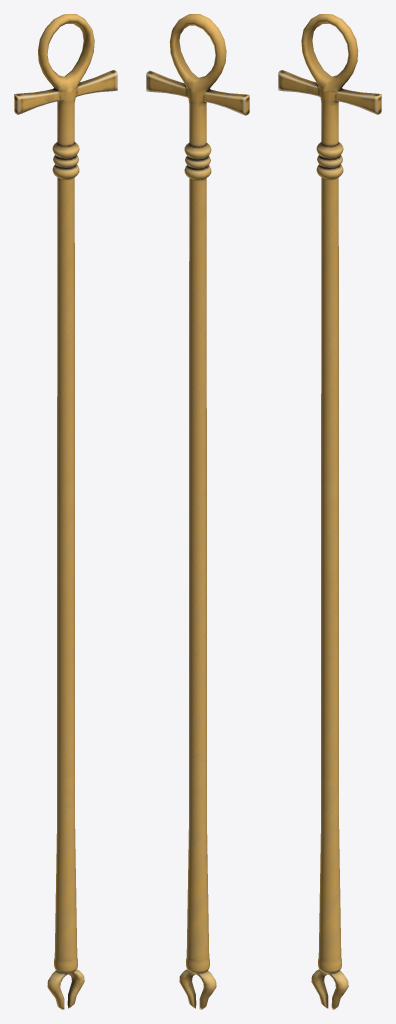
File: Ankh_Staff.fbx
The picture shows the model from 3 angles, left to right: view 1: azimuth 30°, elevation 25°; view 2: azimuth 150°, elevation 25°; view 3: azimuth 330°, elevation 25°; orthographic projection.
Visible parts, largest first — view 1: Staff; view 2: Staff; view 3: Staff.
Part boxes in pixels (left/top/right/bottom): Staff: left=14, top=14, right=117, bottom=1009; Staff: left=146, top=14, right=249, bottom=1009; Staff: left=278, top=14, right=381, bottom=1009.
Size of the model in its own units: 17.55 by 165 by 4.06.
1 material, 1 textured.
